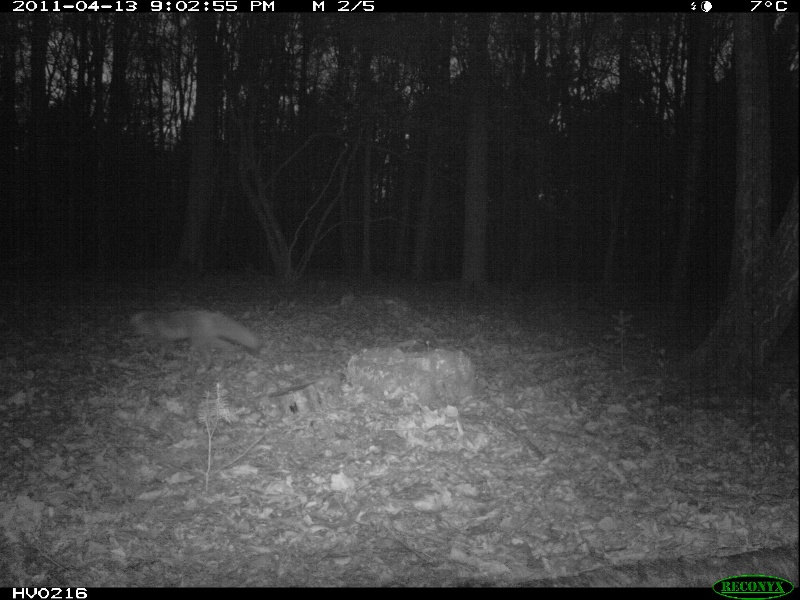fox: (125, 305, 263, 367)
